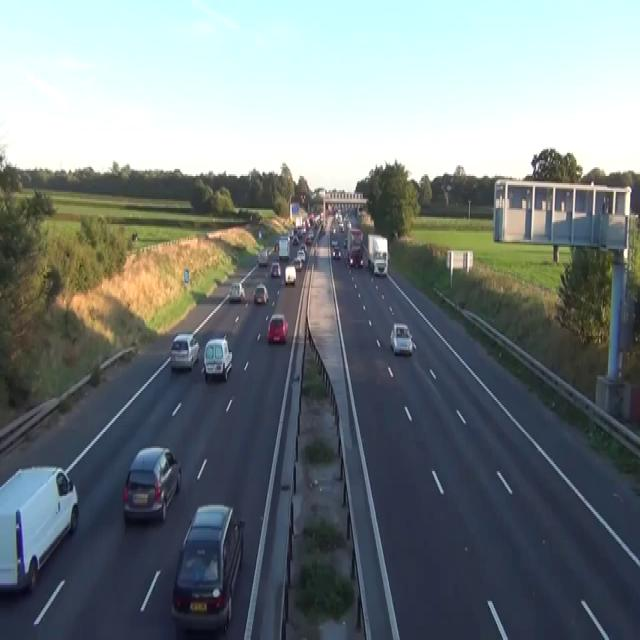Car: (0, 464, 79, 594), (171, 503, 245, 633), (122, 444, 181, 522), (330, 206, 364, 268), (201, 336, 232, 380), (170, 332, 199, 370), (390, 322, 413, 356), (267, 313, 288, 343), (228, 281, 245, 302), (253, 283, 268, 304), (349, 244, 363, 266), (373, 258, 387, 276), (349, 226, 363, 243), (284, 265, 296, 284), (257, 247, 268, 265), (270, 262, 281, 278), (331, 246, 341, 260), (293, 256, 302, 270), (297, 249, 305, 261), (291, 235, 299, 245), (305, 235, 312, 245), (131, 231, 137, 242), (267, 247, 274, 256), (331, 238, 338, 246), (273, 240, 278, 251), (330, 224, 336, 233), (343, 238, 347, 247), (258, 230, 262, 238)
Truck: (367, 233, 388, 275), (347, 226, 363, 266), (278, 234, 290, 260)
